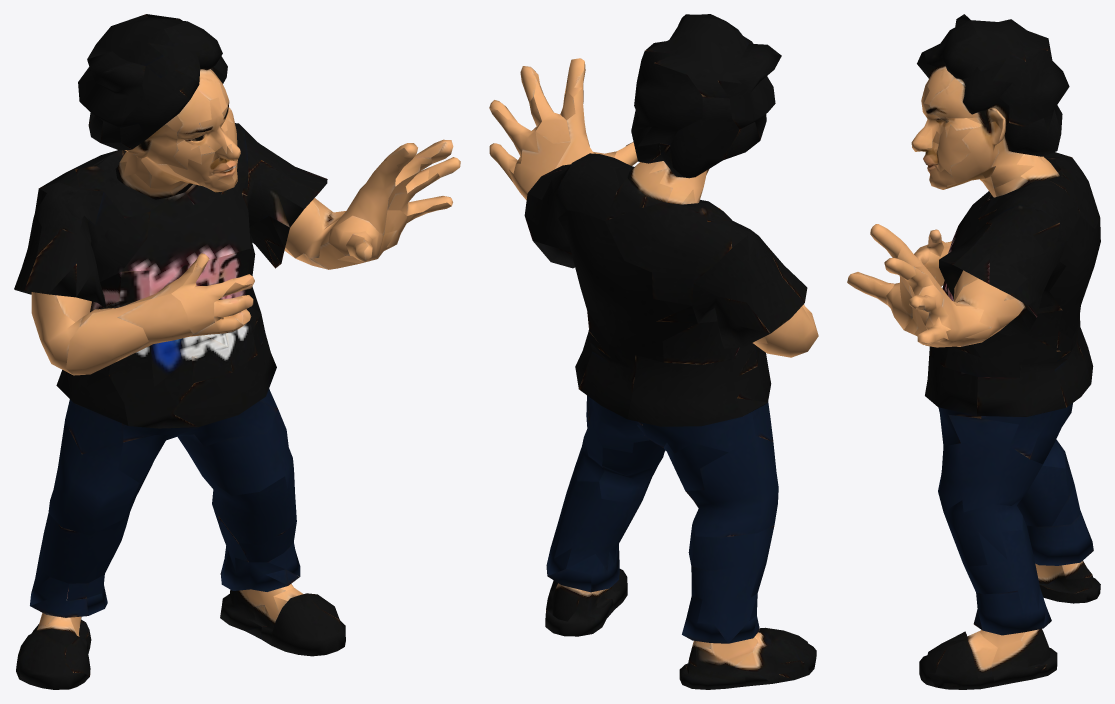
File: ยศกร.glb
3 views of the same model, side by side, from view 1: azimuth 30°, elevation 25°; view 2: azimuth 150°, elevation 25°; view 3: azimuth 270°, elevation 25° (orthographic). The views are drawn at different scales.
Visible parts, largest first — view 1: mesh_node; view 2: mesh_node; view 3: mesh_node.
Boxes of the visible parts, x1,y1,x2,y2 form: mesh_node: (14,14,460,689); mesh_node: (489,14,818,689); mesh_node: (847,14,1100,689).
Bounding box in the file's own units: 0.6348 × 1 × 0.3877.
Materials: 1 (1 with a texture image).
